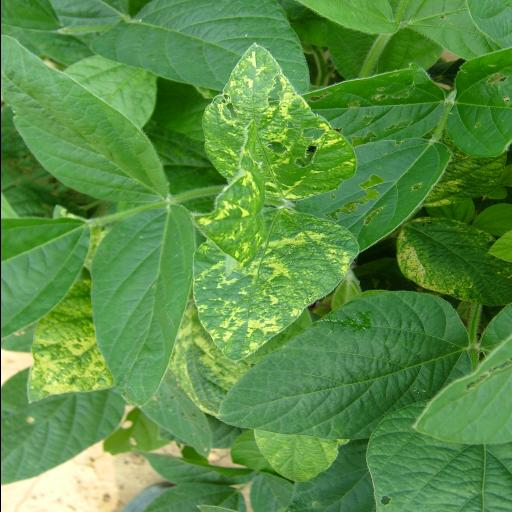Mosaic Virus: (192, 42, 358, 200), (199, 210, 353, 353), (396, 219, 512, 307)
